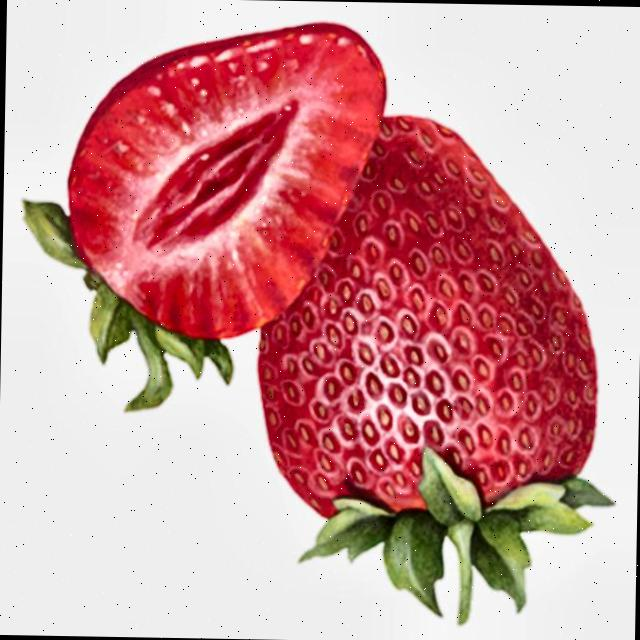strawberry: (258, 116, 609, 621), (22, 23, 384, 409)
